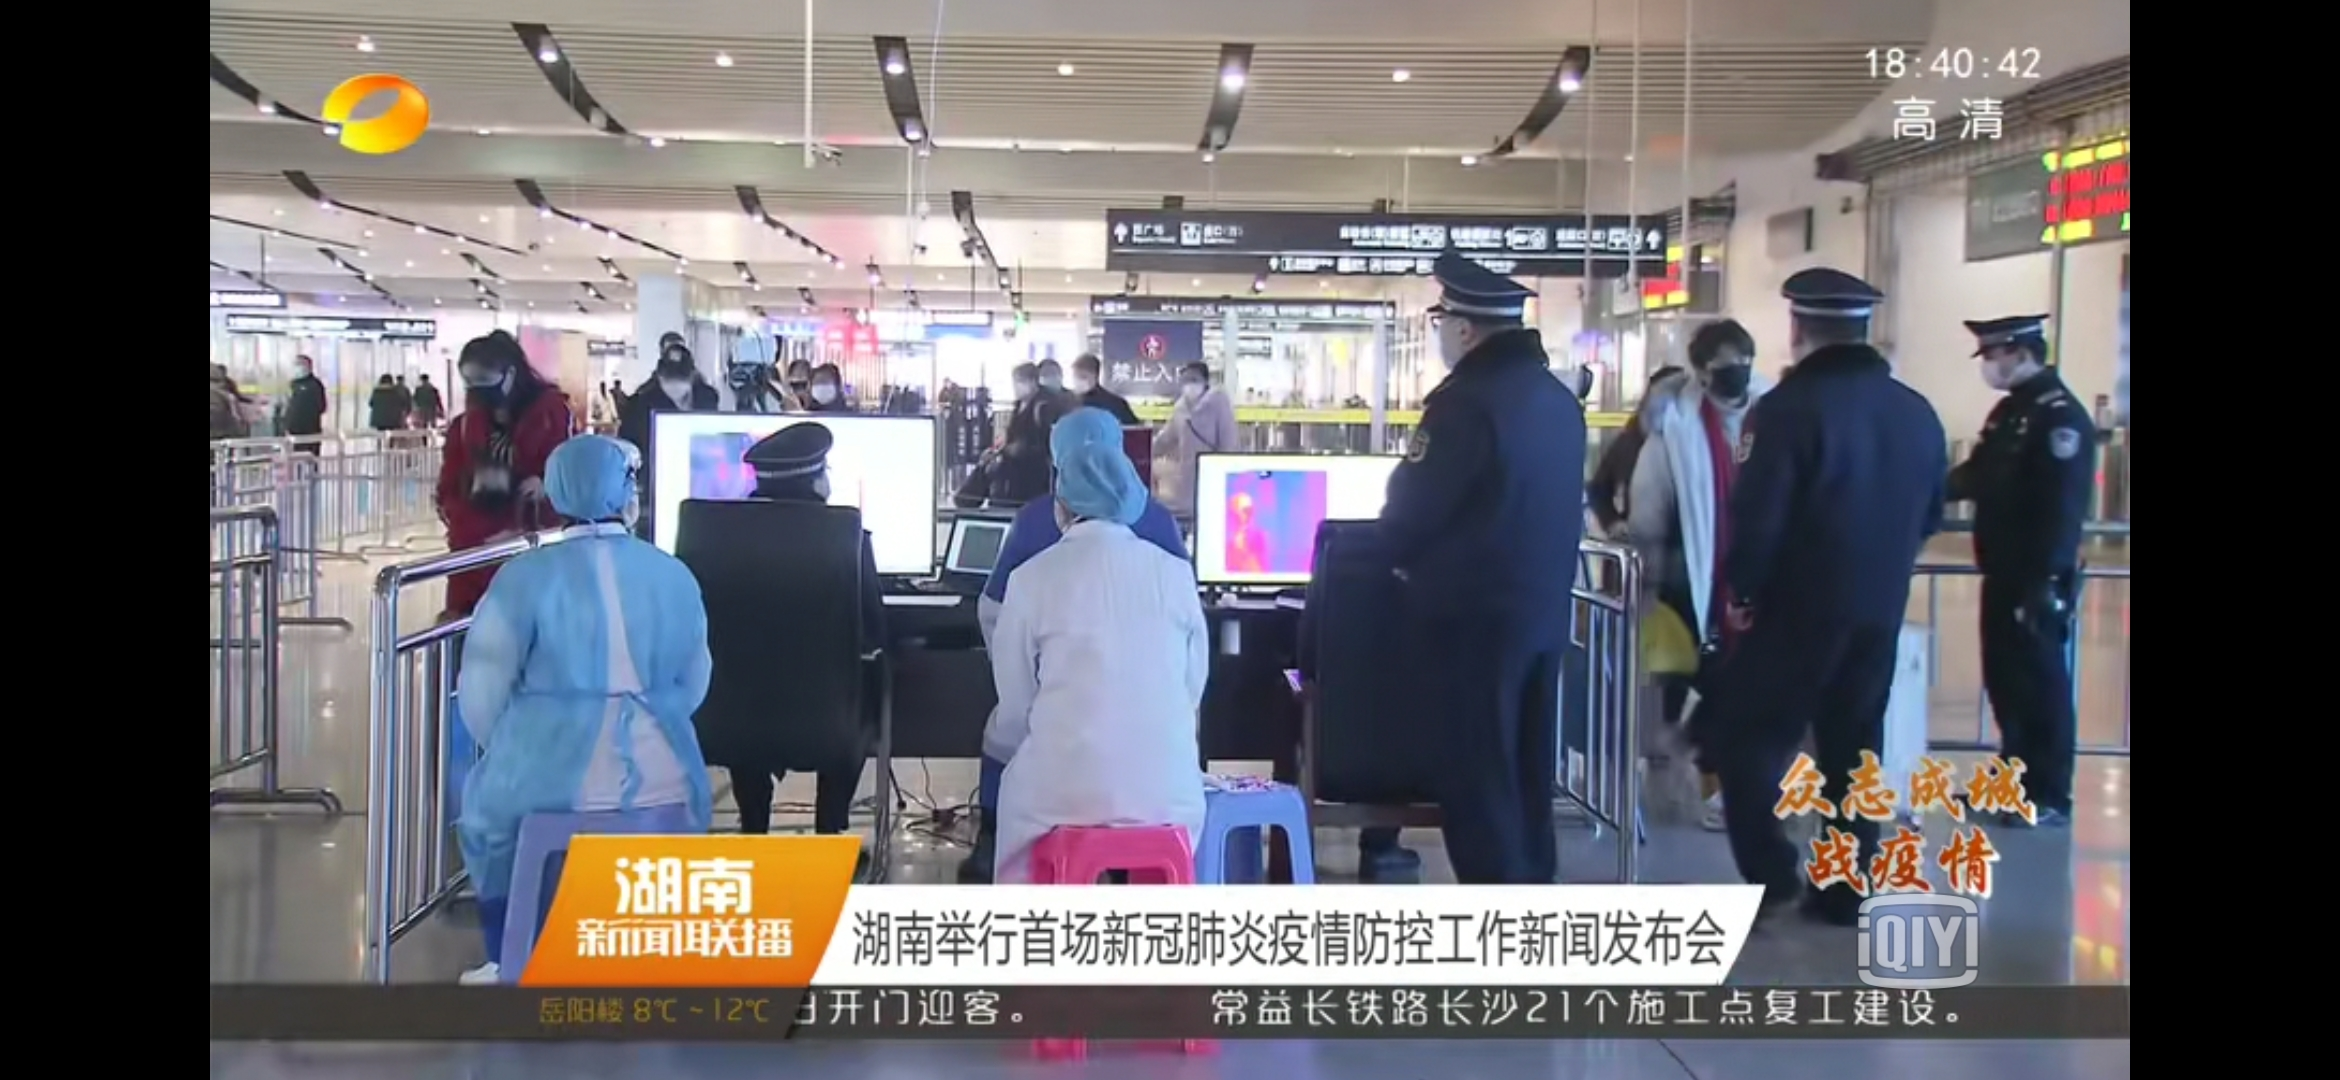correctlyWear: (1976, 340, 2042, 392), (1698, 354, 1755, 404), (466, 362, 516, 409), (658, 361, 692, 398), (810, 373, 843, 409), (1177, 368, 1206, 401), (1073, 362, 1098, 395), (1016, 368, 1037, 400), (1040, 365, 1063, 394)
